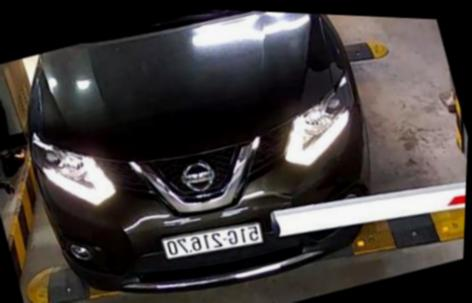License_Plate: (162, 212, 267, 265)
